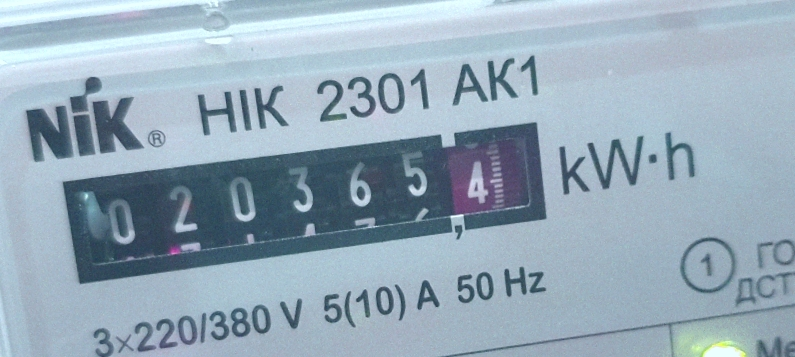0: (101, 191, 141, 250), (225, 173, 261, 226)
2: (164, 181, 200, 235)
3: (284, 163, 318, 216)
4: (461, 156, 490, 207)
5: (400, 149, 432, 199)
6: (342, 156, 374, 210)
screen: (46, 101, 567, 302)
